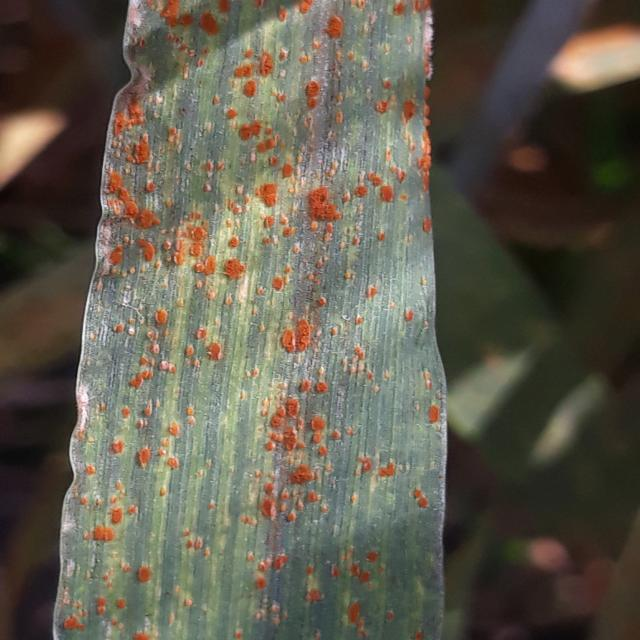orang_rust: (48, 0, 459, 640)
